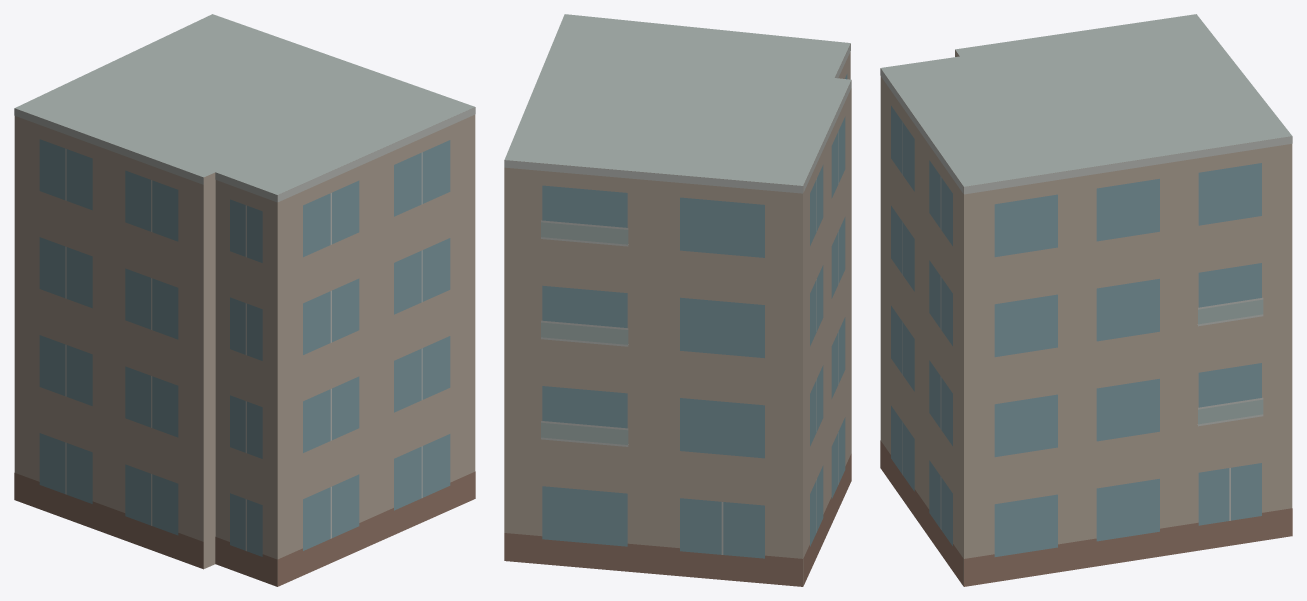
File: survey-upis-32518736.glb
The picture shows the model from 3 angles, left to right: view 1: azimuth 30°, elevation 25°; view 2: azimuth 150°, elevation 25°; view 3: azimuth 270°, elevation 25°; orthographic projection. The views are drawn at different scales.
Parts seen in each view (by area): view 1: survey-upis-32518736.tmp; view 2: survey-upis-32518736.tmp; view 3: survey-upis-32518736.tmp.
Boxes of the visible parts, x1,y1,x2,y2 form: survey-upis-32518736.tmp: [14, 14, 475, 586]; survey-upis-32518736.tmp: [504, 14, 851, 586]; survey-upis-32518736.tmp: [880, 14, 1292, 586].
Bounding box in the file's own units: 11.87 × 12.8 × 11.96.
